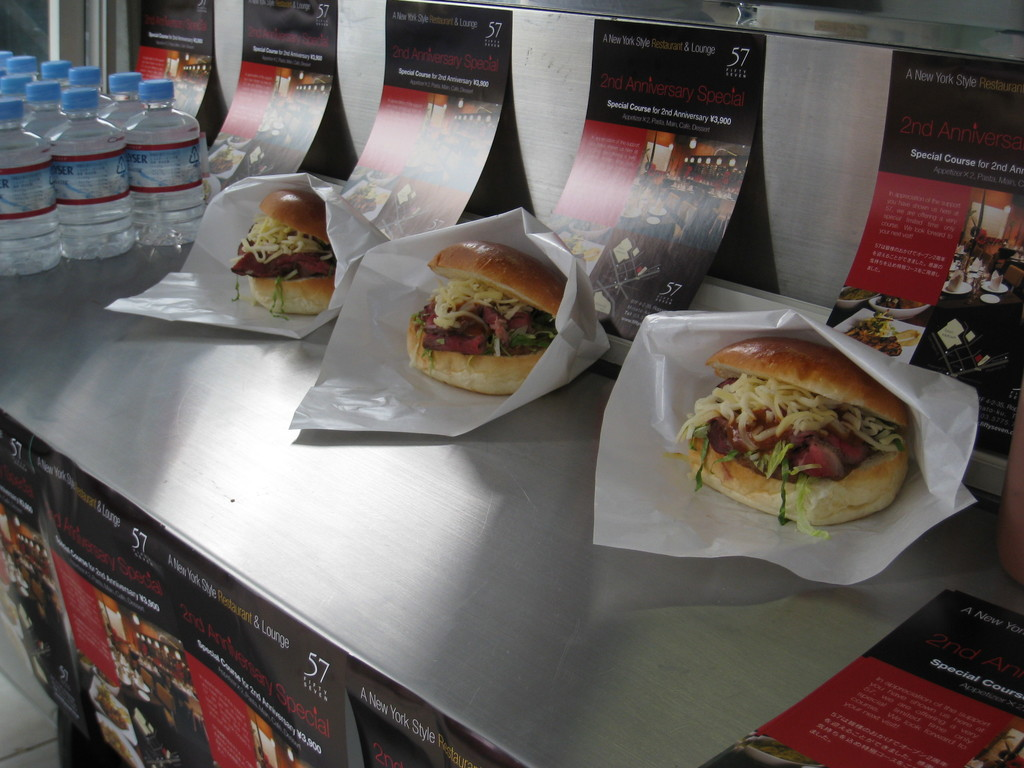Hamburger: (678, 337, 913, 540), (407, 240, 563, 396), (224, 188, 336, 317)
